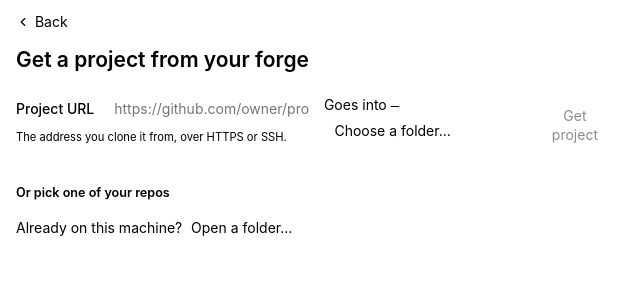
get a project by URL (#1815) › says a bad URL before anything is cloned, with Retry
This screenshot has width=635, height=292.
Type "http://github.com/acme/widget" into the field labelled "Project URL" at (212, 109), box [106, 95, 317, 123]
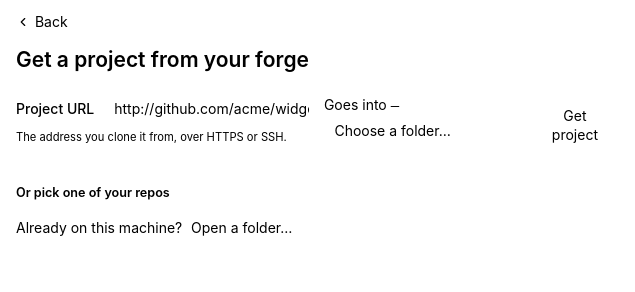
Click the button "Get project" at (575, 125), box [532, 102, 618, 148]
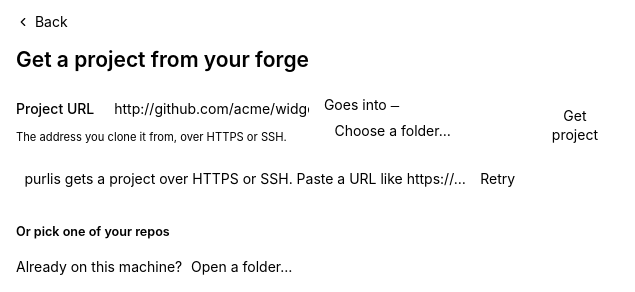
Expected: the message shows "purlis gets a project over HTTPS or SSH. Paste a URL like https://…", [24, 170, 466, 187]
Expected: the button "Retry" is shown, [470, 164, 526, 193]
